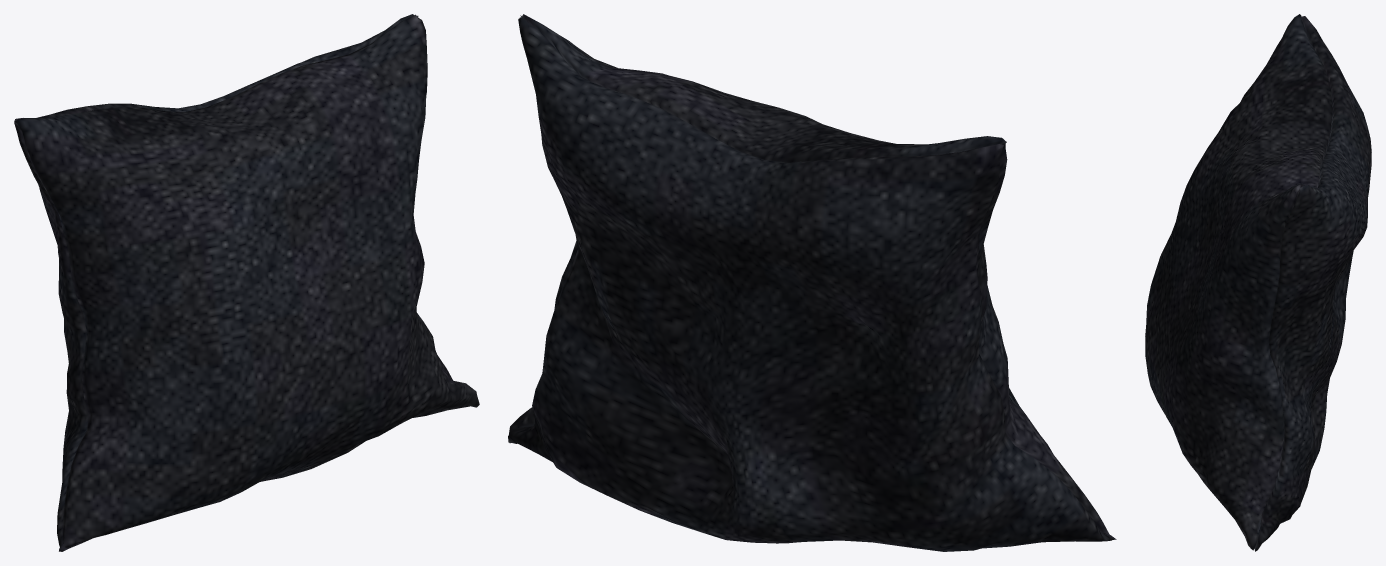
Rendered from cushion.006.fbx.
3 renders of one model, left to right at view 1: azimuth 30°, elevation 25°; view 2: azimuth 150°, elevation 25°; view 3: azimuth 270°, elevation 25°, orthographic. The views are drawn at different scales.
Parts seen in each view (by area): view 1: cushion.006; view 2: cushion.006; view 3: cushion.006.
Boxes of the visible parts, x1=… form: cushion.006: x1=14, y1=14, x2=479, y2=551; cushion.006: x1=508, y1=14, x2=1116, y2=551; cushion.006: x1=1145, y1=14, x2=1371, y2=551.
Bounding box in the file's own units: 51.44 × 42.23 × 23.83.
1 material, 1 textured.
